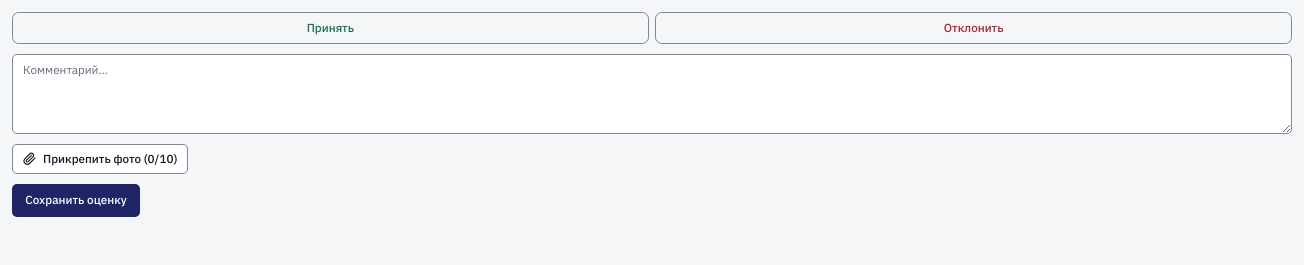
Test case: SubmissionForm — grade validation › still requires a comment when a grade is rejected
The image size is (1304, 265).
Click the button "Отклонить" at (974, 28), box [655,12,1292,44]
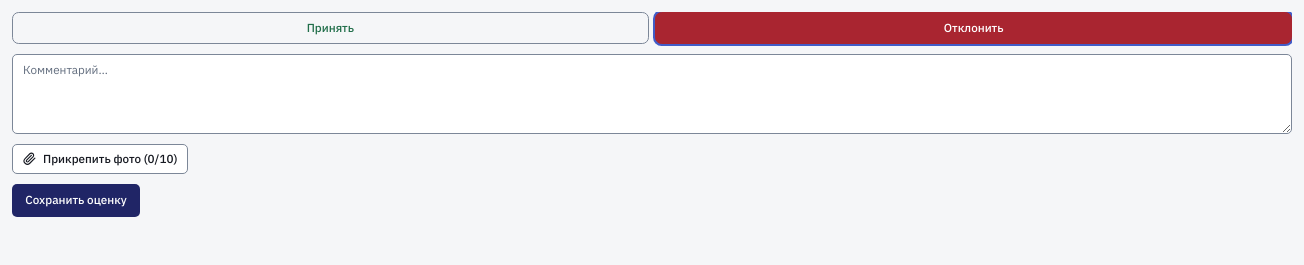
Click the button "Сохранить оценку" at (76, 201), box [12,184,140,217]
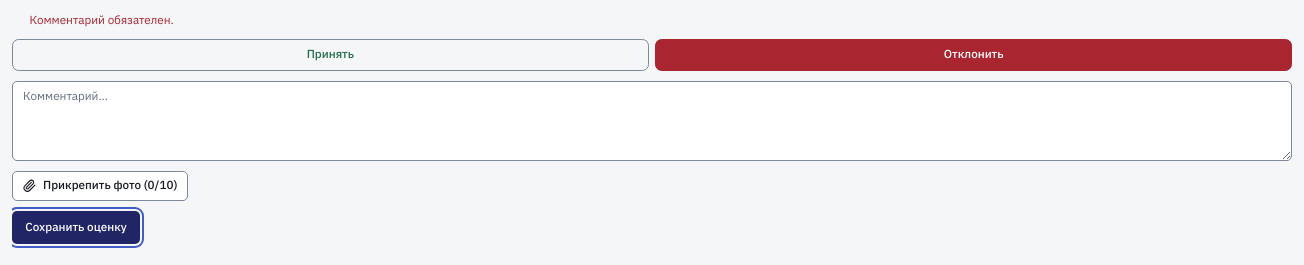
Result: the text "Комментарий обязателен." is shown at [30,12,174,27]
